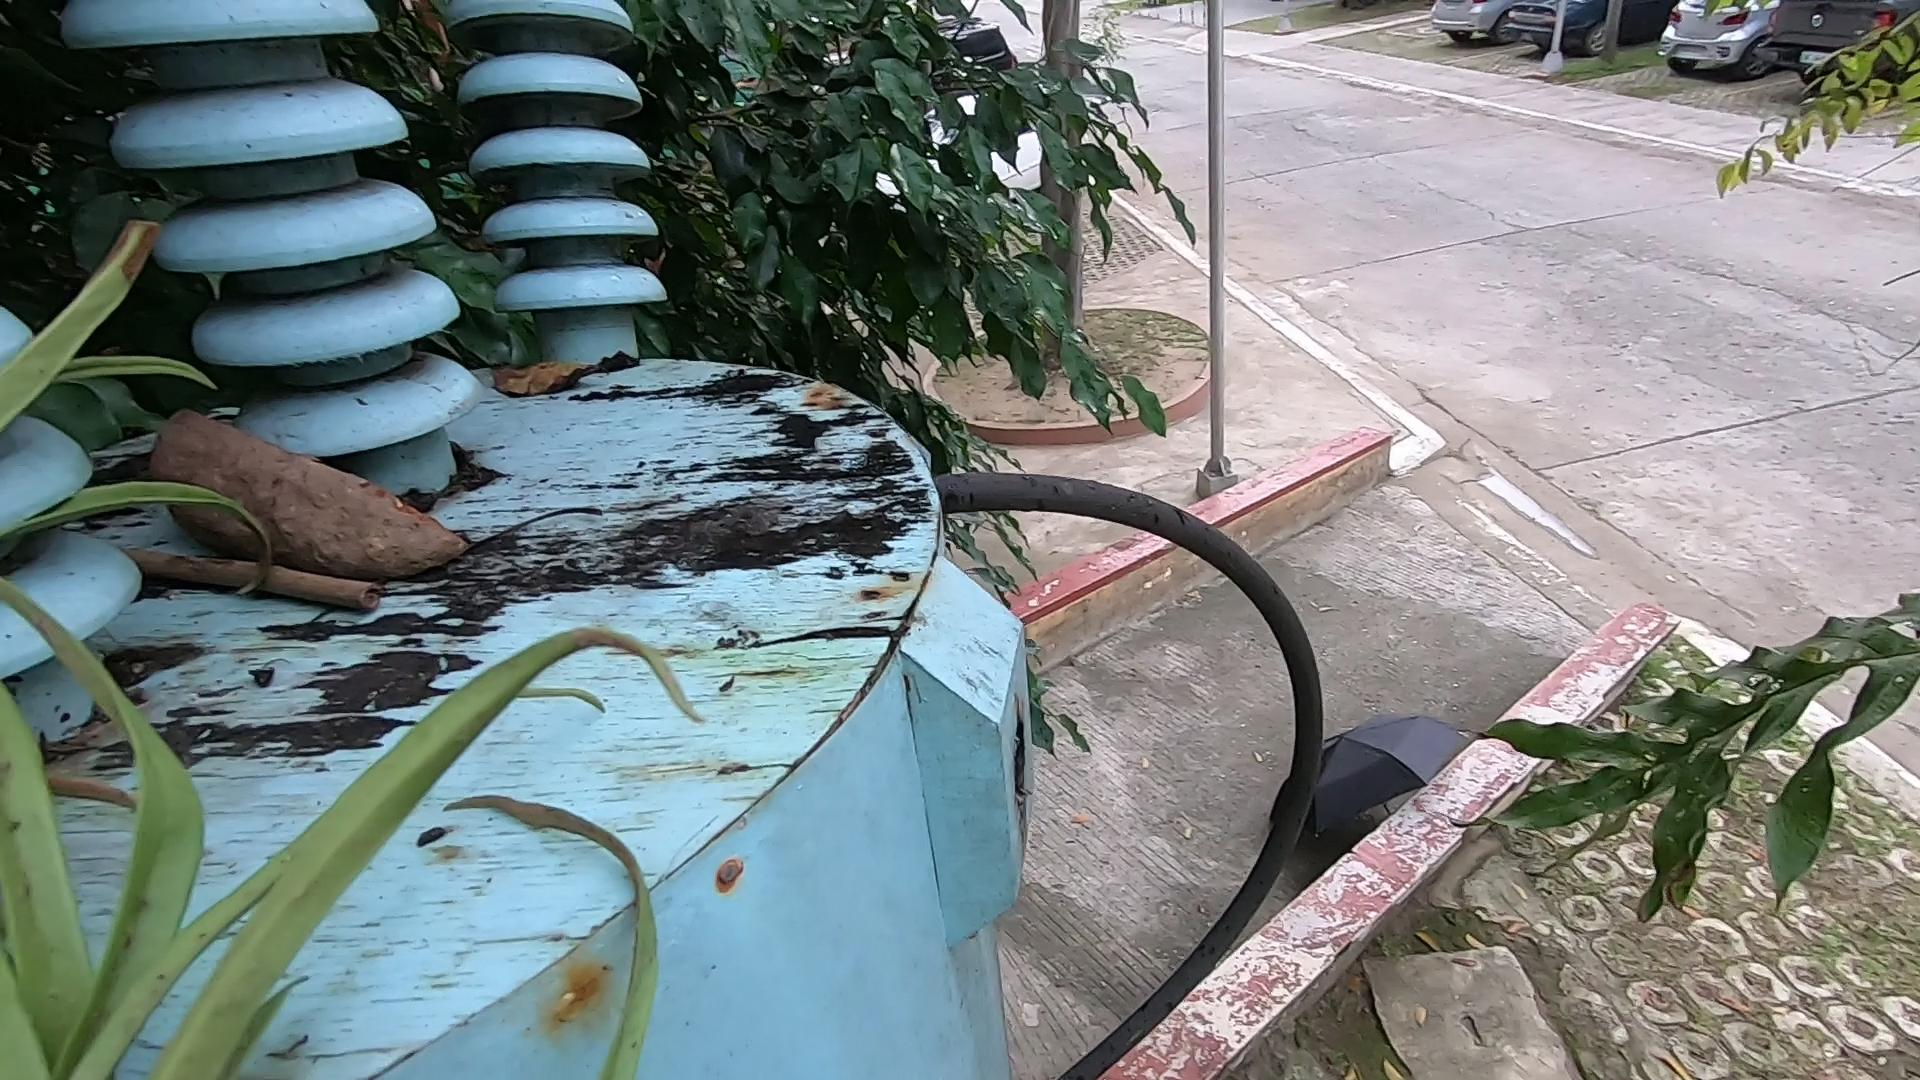leaf: (8, 622, 669, 1071), (498, 351, 687, 417)
mahogany fruit: (167, 400, 624, 636)
tree branch: (123, 530, 411, 618)
